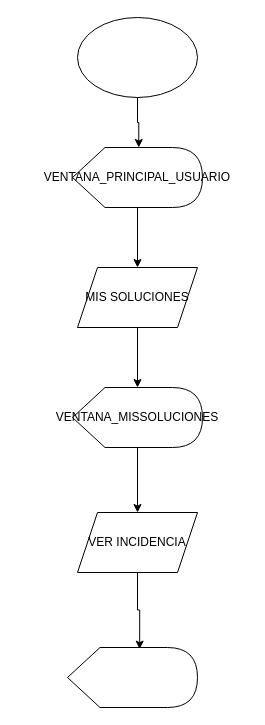
The diagram is 265 pixels wide and 725 high, and some of its shapes have lost their labels. The box of each missing label's shape, as (x1, y1, x2, y2) in pixels:
INICIO: (76, 16, 198, 98)
VENTANA_LEER_INCIDENCIA_USUARIO: (66, 646, 198, 708)
